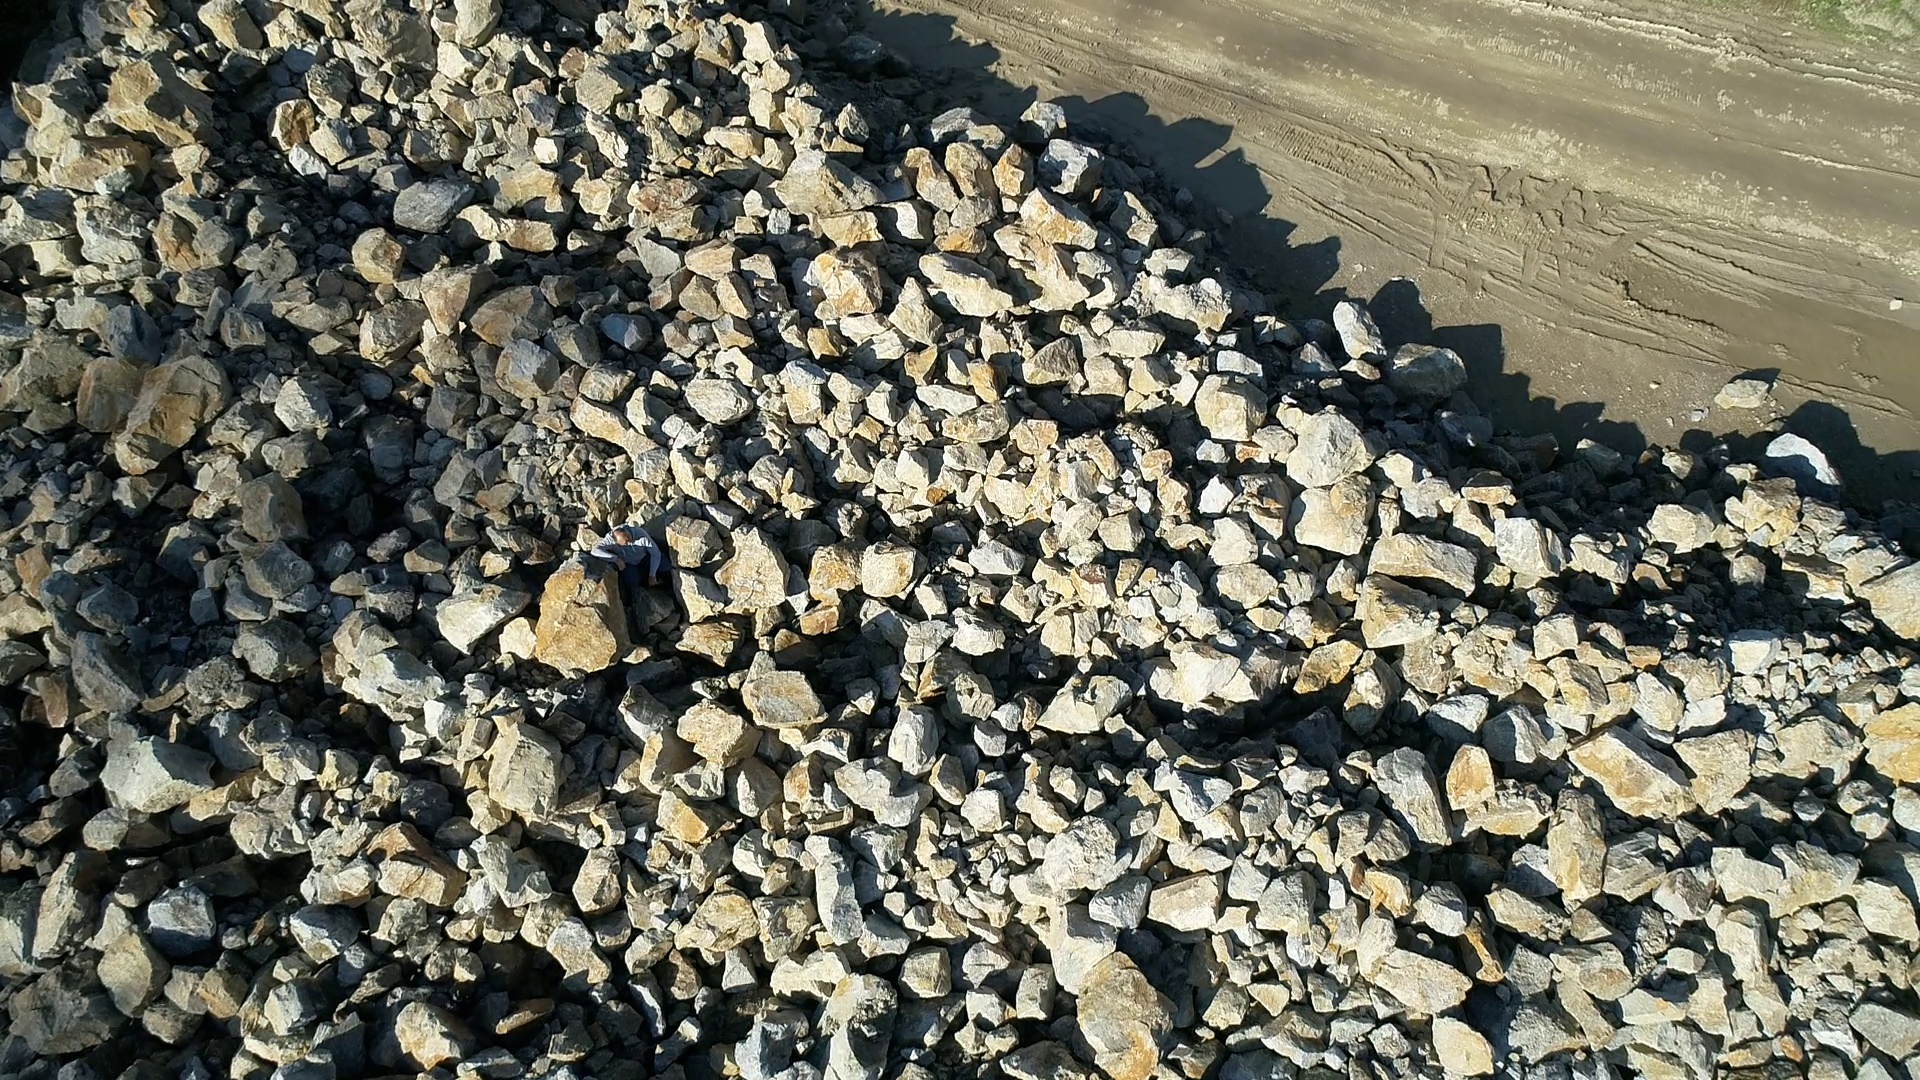person: (589, 521, 661, 589)
